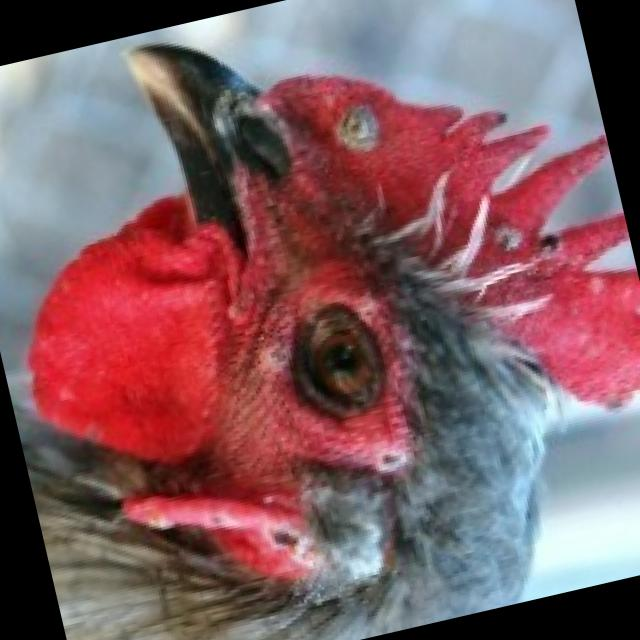Fowlpox: (192, 13, 640, 445)
